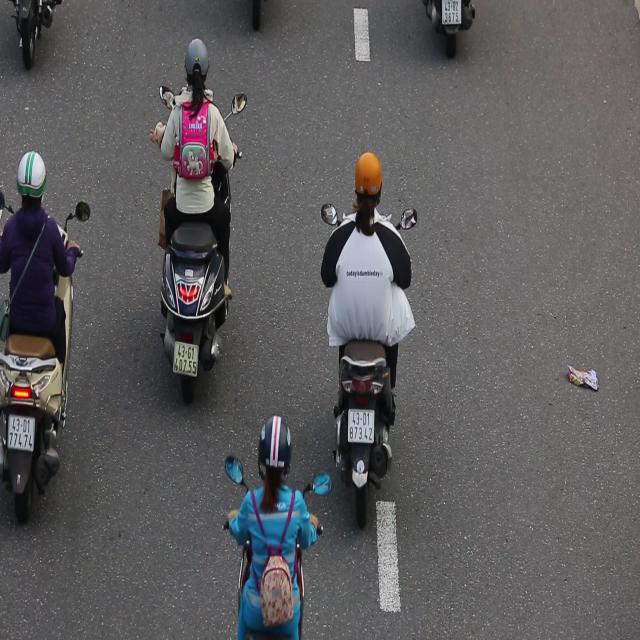motorbike: (319, 140, 423, 522), (150, 28, 250, 409)
